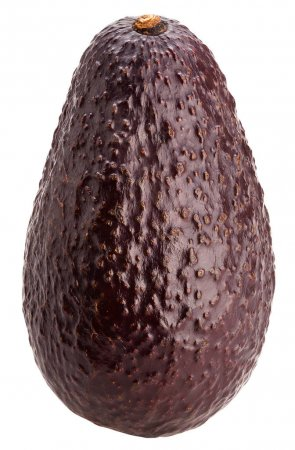fit_avocado: (3, 7, 295, 442)
